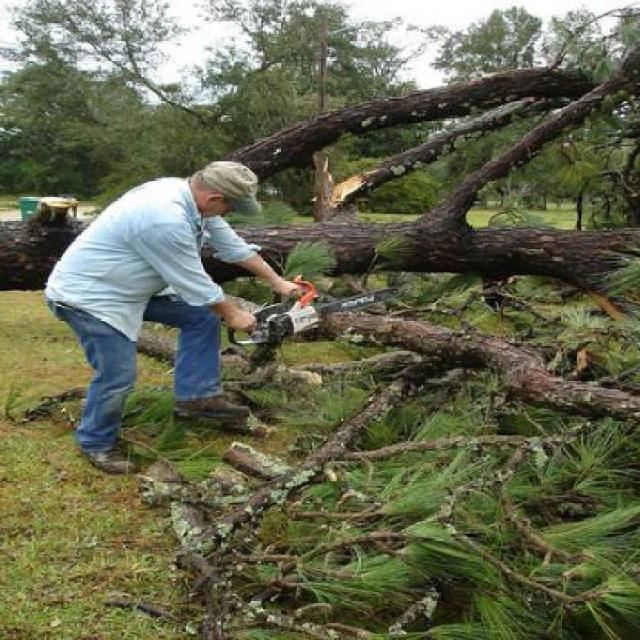Chainsaw: (223, 279, 405, 346)
